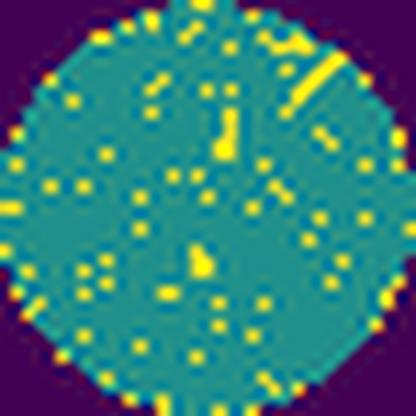Scratch: (276, 49, 351, 121)
